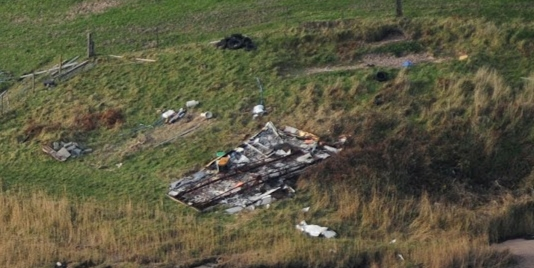cuboid: (161, 119, 351, 222)
scattered_barrel: (368, 48, 475, 88), (151, 85, 221, 128)
white_in_green: (29, 116, 103, 184), (280, 199, 356, 259), (202, 6, 270, 71), (238, 89, 277, 126)
